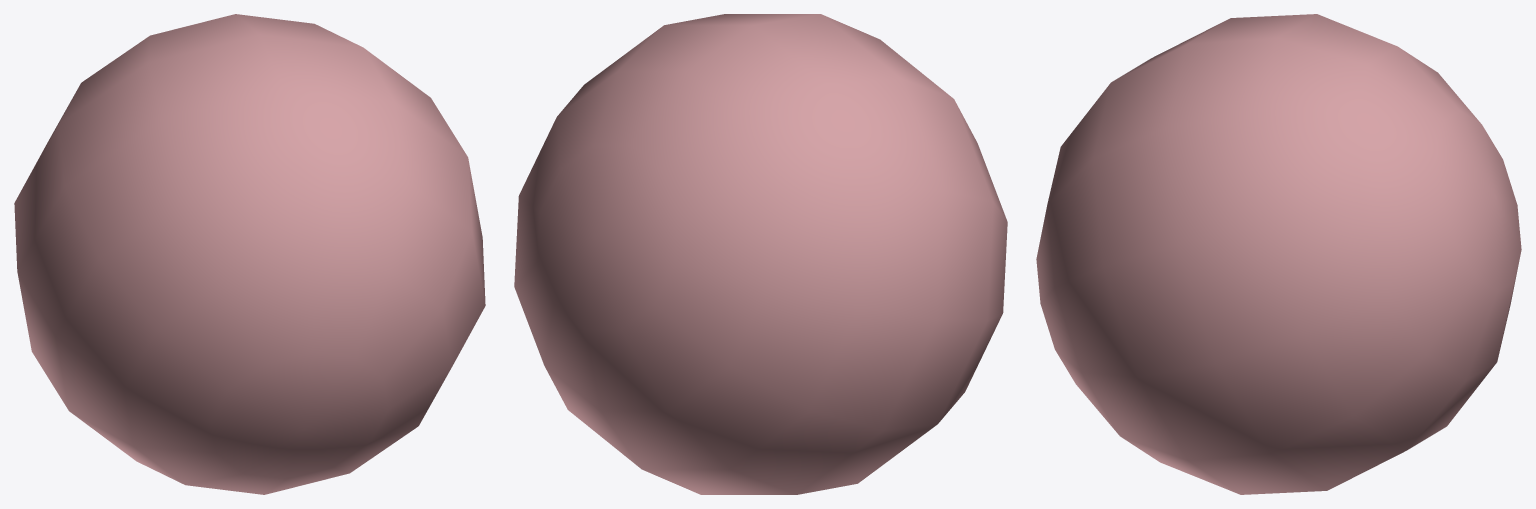
The picture shows the model from 3 angles, left to right: view 1: azimuth 30°, elevation 25°; view 2: azimuth 150°, elevation 25°; view 3: azimuth 270°, elevation 25°; orthographic projection. The views are drawn at different scales.
Visible parts, largest first — view 1: ZA_e83c6693f11f6c43; view 2: ZA_e83c6693f11f6c43; view 3: ZA_e83c6693f11f6c43.
Boxes of the visible parts, x1,y1,x2,y2 form: ZA_e83c6693f11f6c43: (14, 14, 485, 494); ZA_e83c6693f11f6c43: (514, 14, 1007, 494); ZA_e83c6693f11f6c43: (1036, 14, 1521, 494).
Size of the model in its own units: 0.00257 by 0.0026 by 0.00259.
